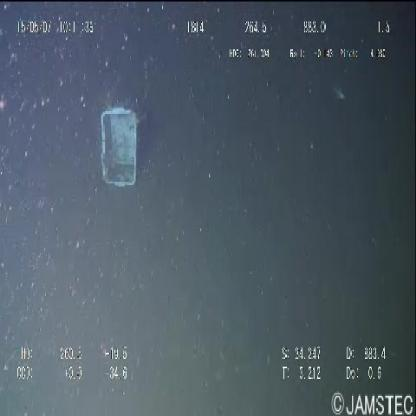Rác: (98, 98, 146, 192)
